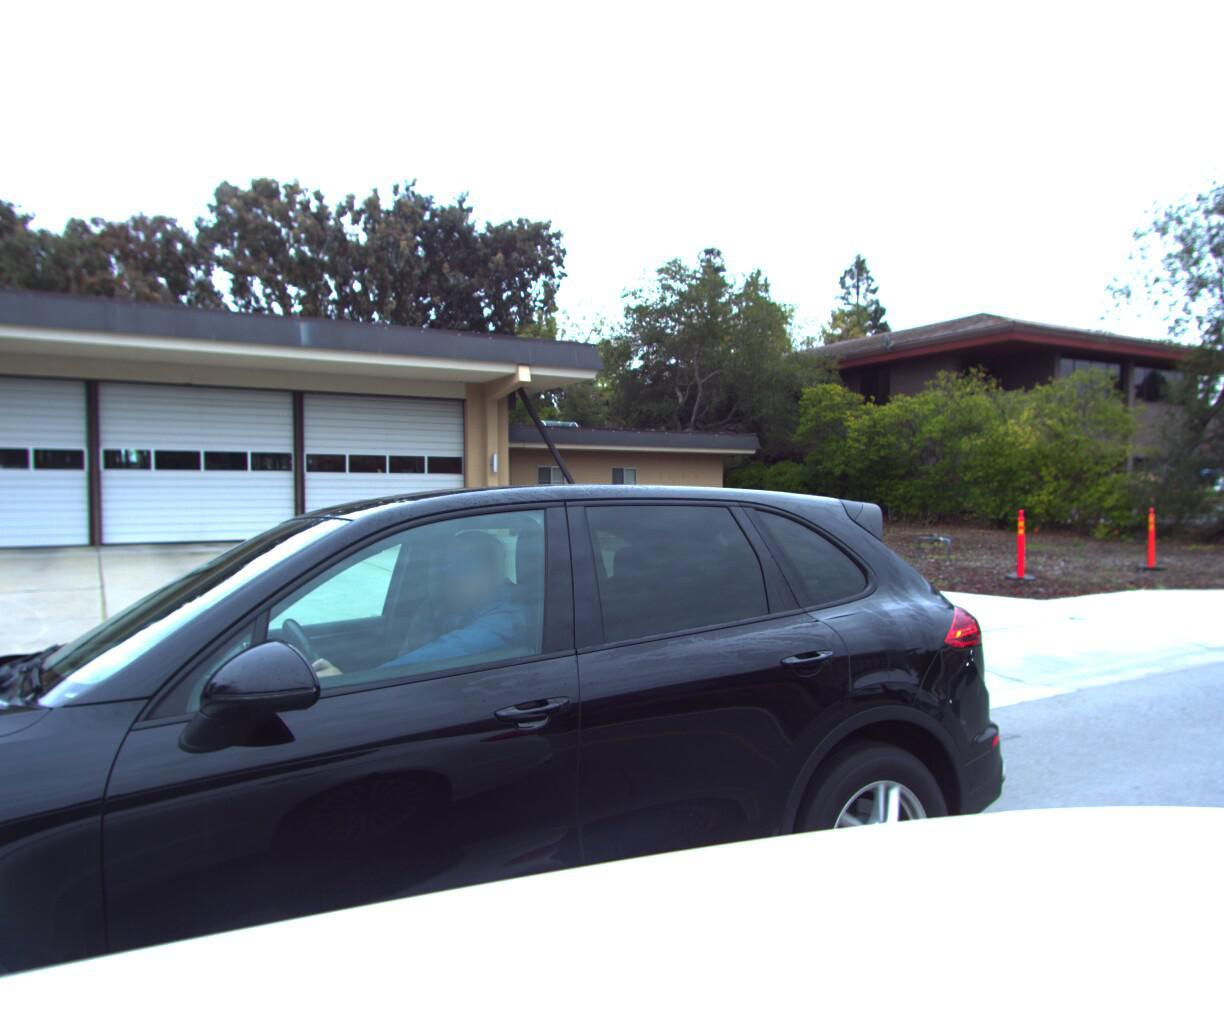car: (0, 352, 1077, 1024)
